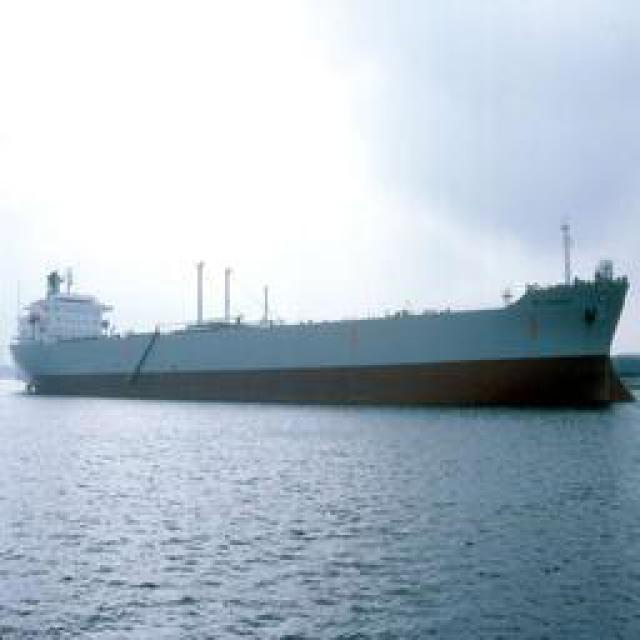Ship: (21, 265, 640, 399)
